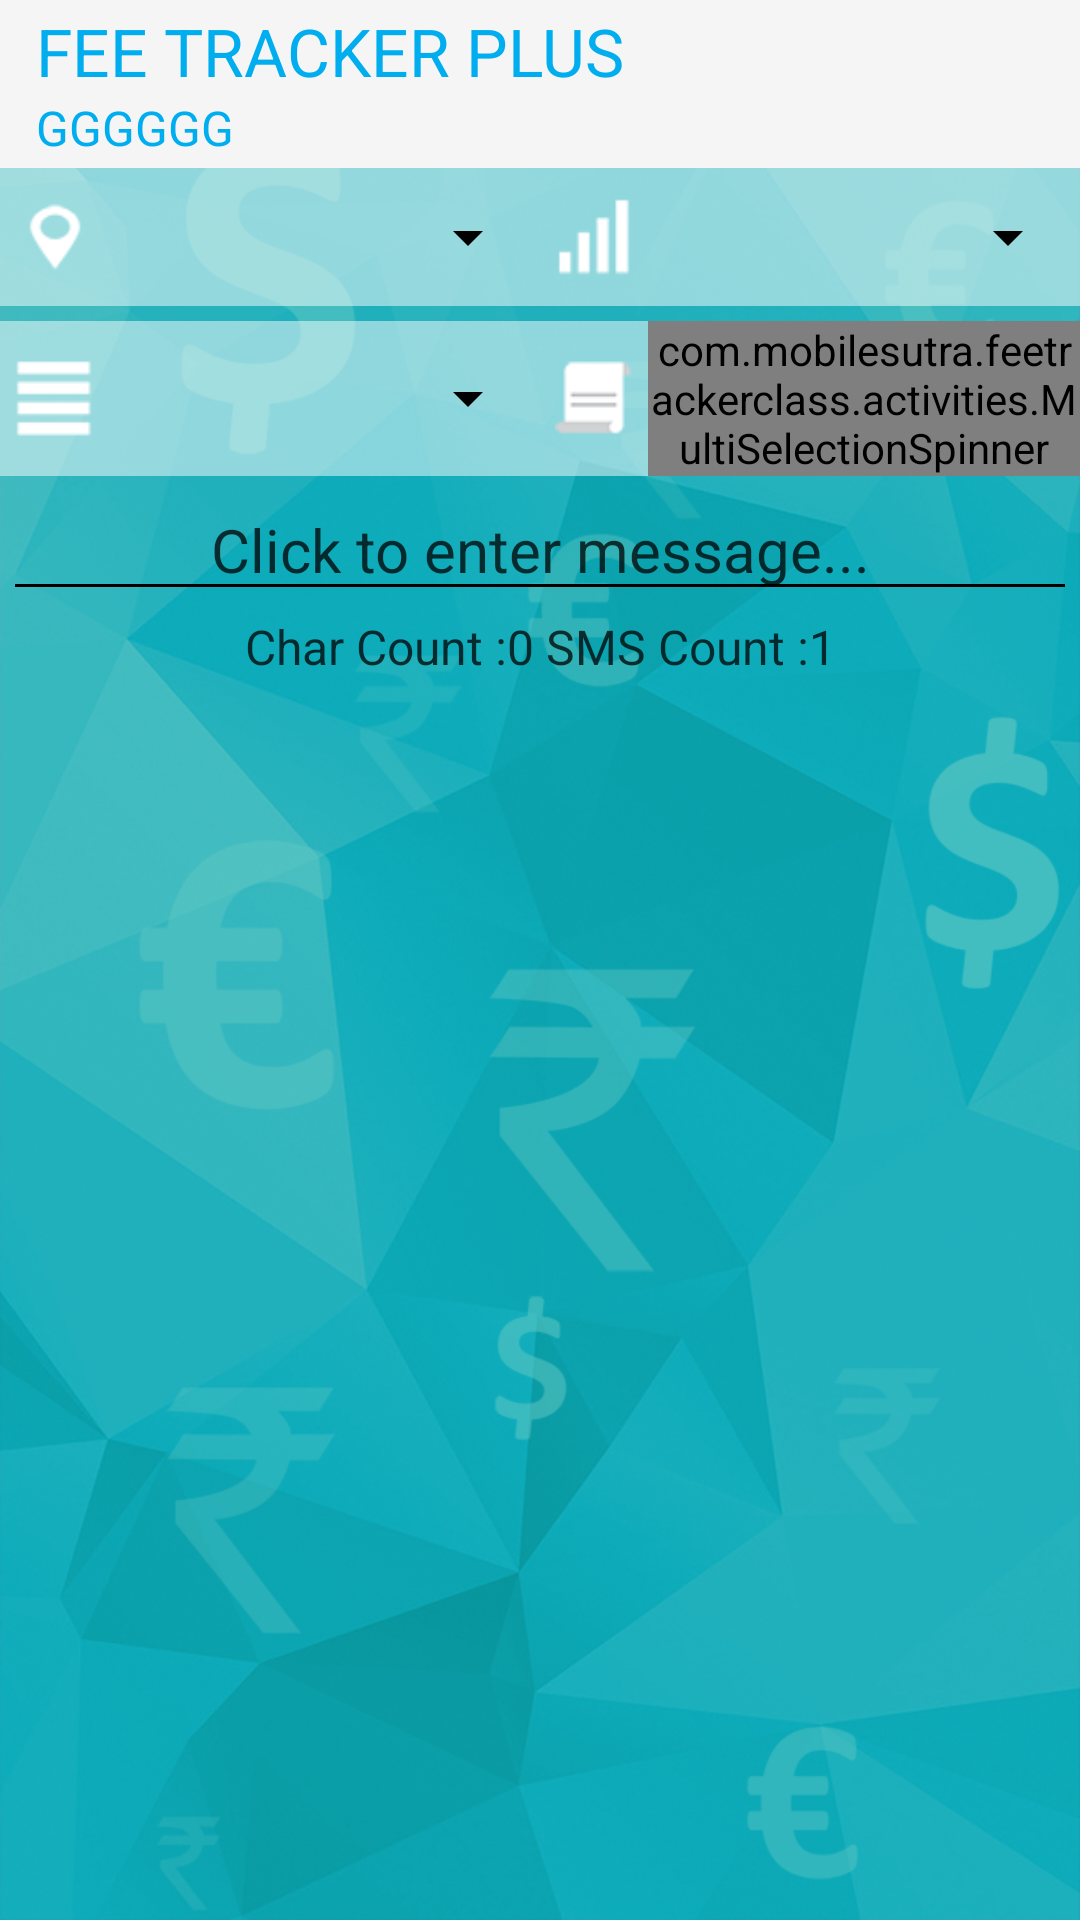

Icon click points for this 1080px x 1920px phone screenshot, format point (x, y):
branchloca: point (55, 237)
standerd: point (594, 237)
subjectstile: point (593, 397)
